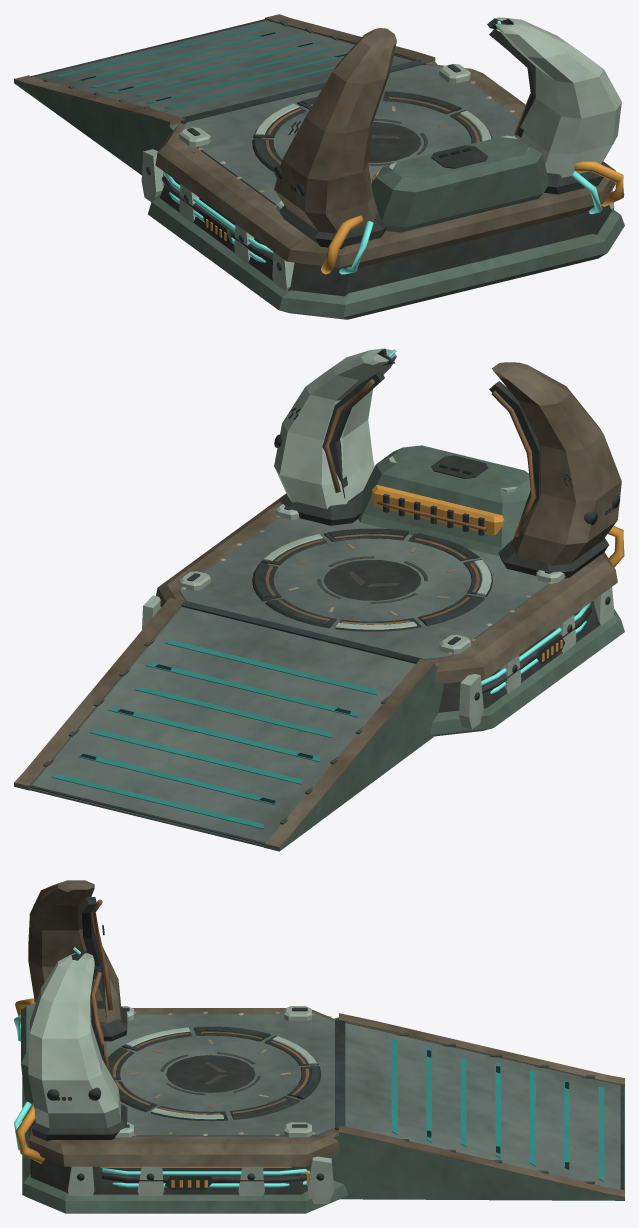
File: NR01_Purifier_LOD1.obj
The picture shows the model from 3 angles, top to bottom: view 1: azimuth 30°, elevation 25°; view 2: azimuth 150°, elevation 25°; view 3: azimuth 270°, elevation 25°; orthographic projection. The views are drawn at different scales.
Visible parts, largest first — view 1: NR01_Purifier_LOD1; view 2: NR01_Purifier_LOD1; view 3: NR01_Purifier_LOD1.
Part boxes in pixels (x1,y1,x2,y2): NR01_Purifier_LOD1: (14, 14, 624, 319); NR01_Purifier_LOD1: (14, 348, 624, 851); NR01_Purifier_LOD1: (14, 880, 624, 1213).
Bounding box in the file's own units: 3.13 × 2.15 × 5.22.
